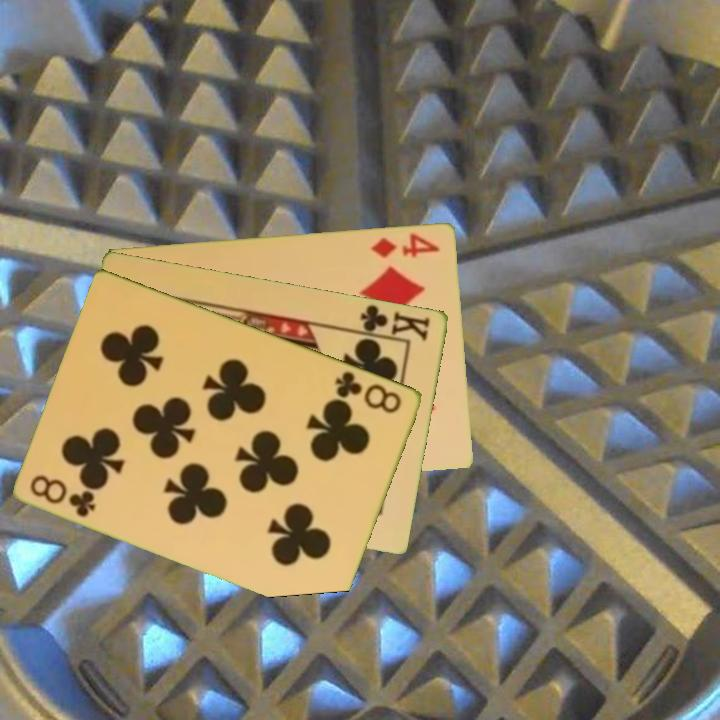4d: (368, 229, 443, 261)
8c: (332, 367, 405, 417), (27, 471, 99, 520)
Kc: (351, 301, 433, 344)
